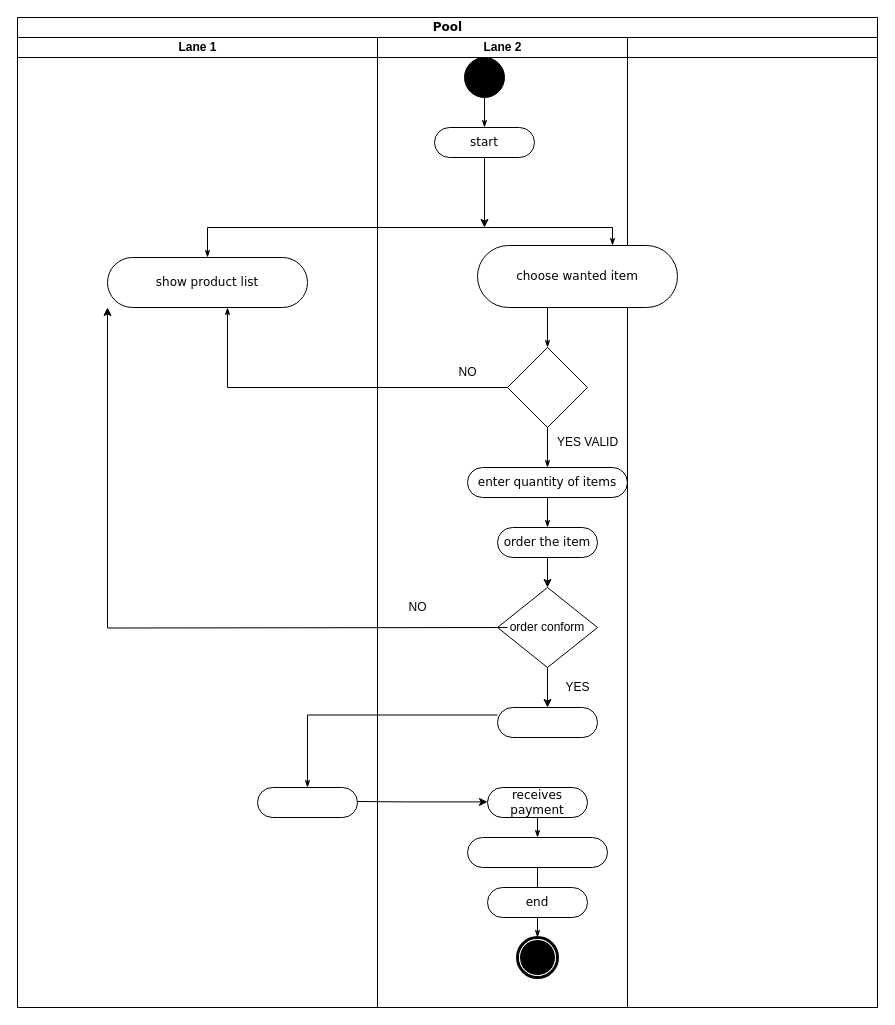
This 895x1025 diagram has some shape labels left out. Here are the shapes that lost their labels. From the top down, the centre of each, then its label:
At point (547, 387): "check login".
At point (752, 522): "Lane 3".
At point (547, 722): "display payment".
At point (307, 802): "pay the bill".
At point (537, 852): "receives order".
